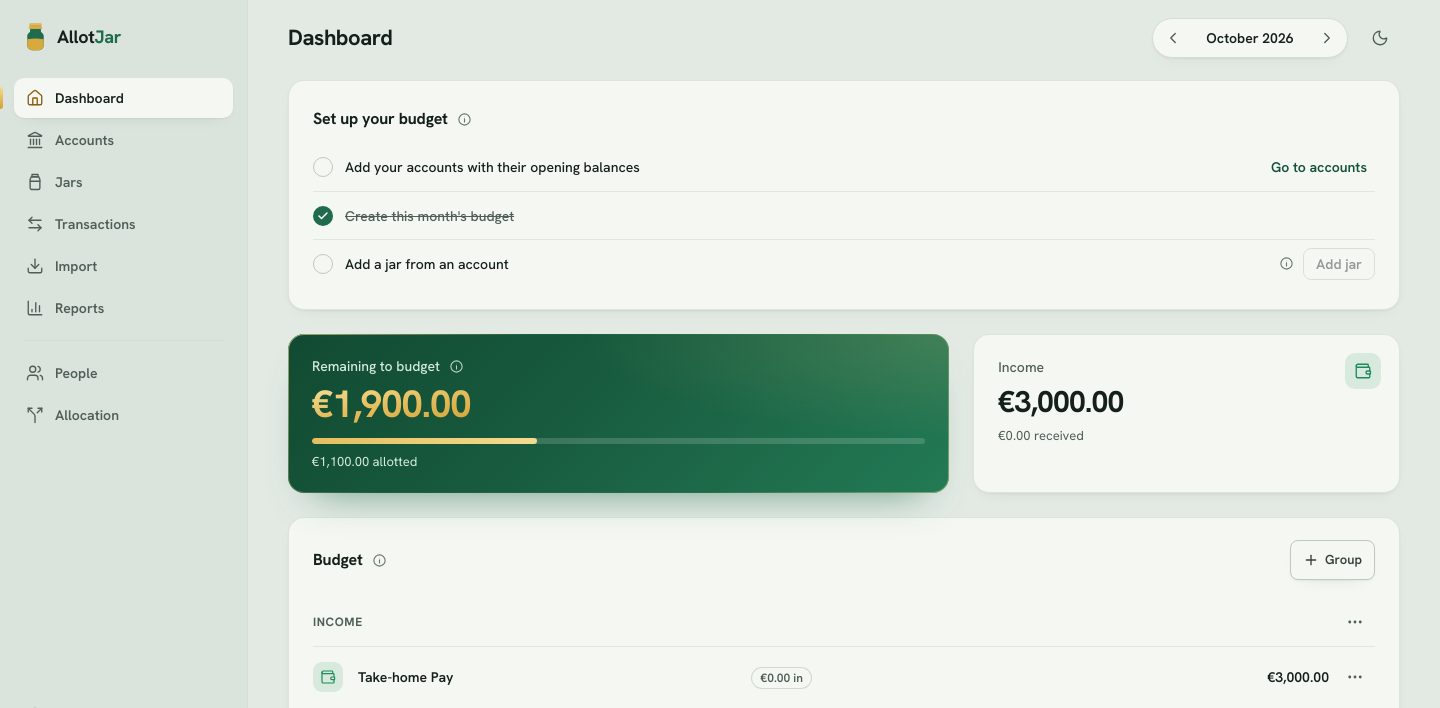
Test: DashboardPage: a month continues the one before (carry-over) › a month still ahead says the carry arrives when it starts, and counts nothing yet
Check: the text named "Remaining to budget: €1,900.00" is shown, box [312,384,471,426]
What coordinates should you click on to do the following:
click the button named "Next month"
I would click on:
 (1327, 38)
Its box is [1311,22,1343,54].
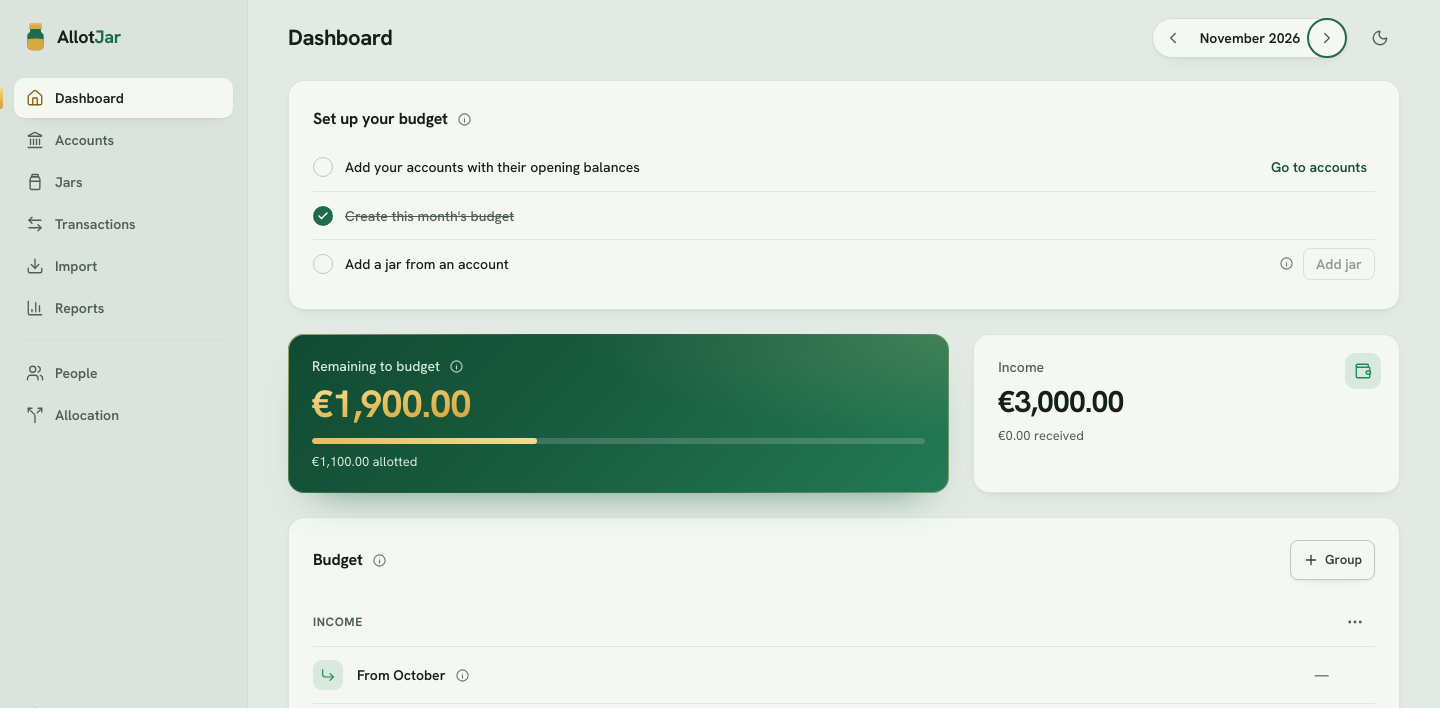
Check: the text named "Remaining to budget: €1,900.00" is shown, box [312,384,471,426]
Check: the text with test id "carry-amount" reads "—", box [1314,666,1329,684]
